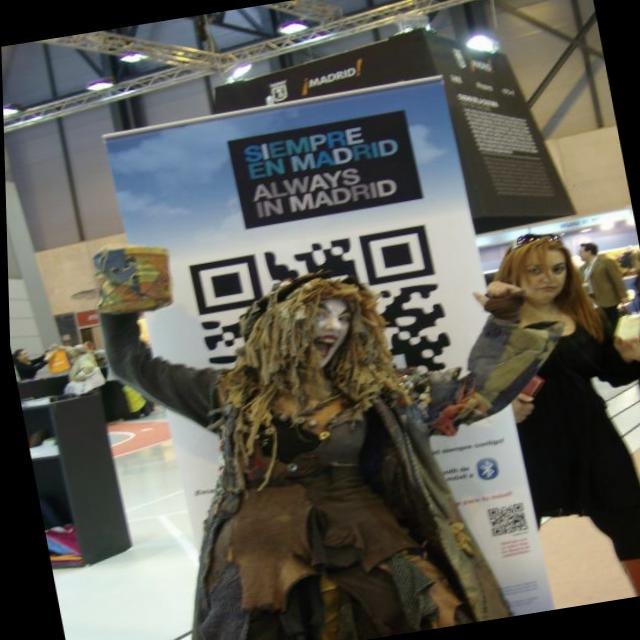qrcode: (187, 225, 453, 406), (486, 504, 527, 537)
